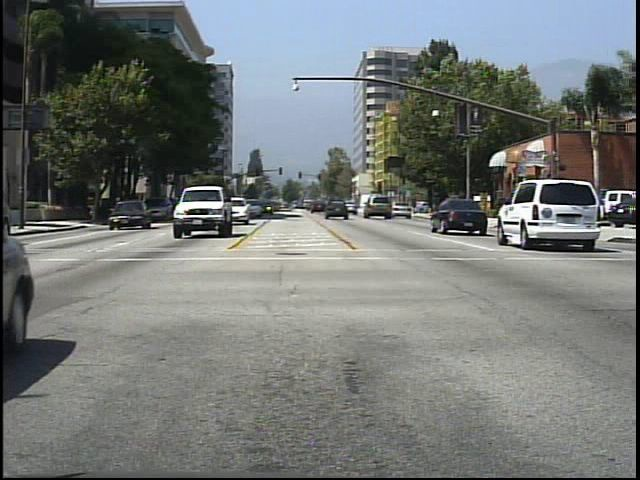person: (506, 192, 526, 230), (462, 191, 479, 226)
